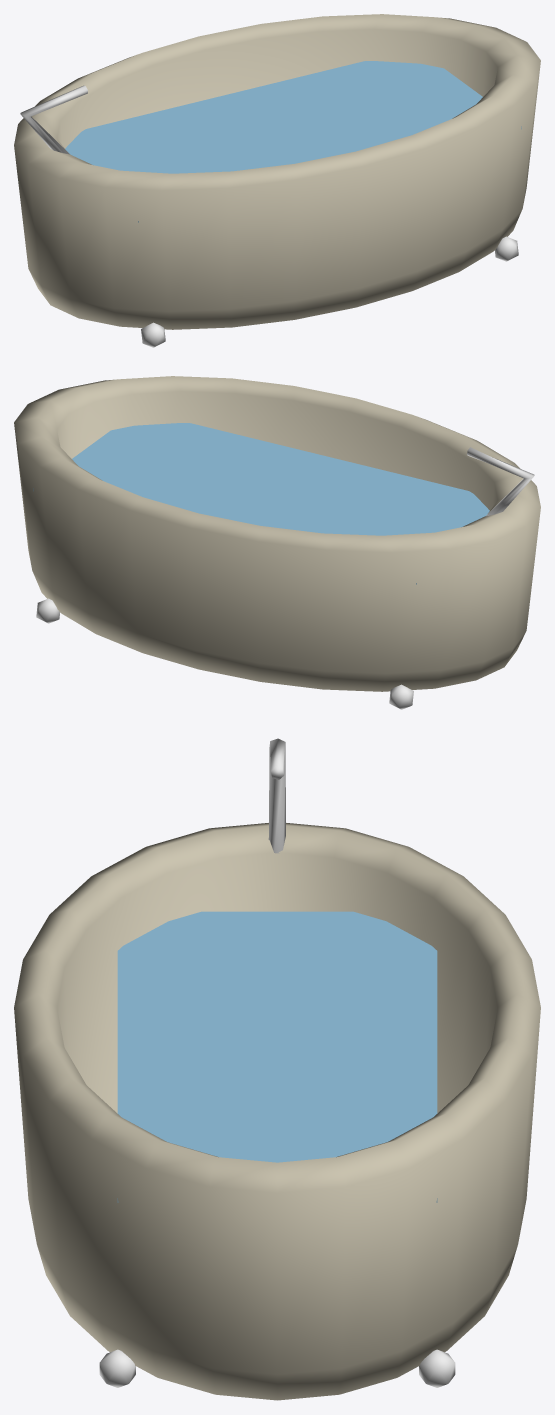
The model's file is bone_bathtub_v0.glb.
3 views of the same model, one above another, from view 1: azimuth 30°, elevation 25°; view 2: azimuth 150°, elevation 25°; view 3: azimuth 270°, elevation 25° (orthographic). The views are drawn at different scales.
Parts seen in each view (by area): view 1: bone_bathtub_v0; view 2: bone_bathtub_v0; view 3: bone_bathtub_v0.
Part boxes in pixels (x1,y1,x2,y2): bone_bathtub_v0: [14, 14, 540, 347]; bone_bathtub_v0: [14, 376, 540, 709]; bone_bathtub_v0: [14, 738, 540, 1400].
Size of the model in its own units: 2.51 by 1.08 by 1.49.
